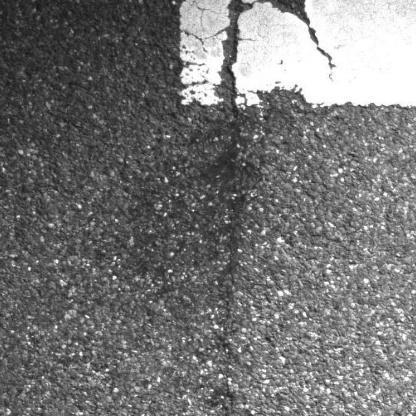Cracks: (219, 0, 249, 128)
